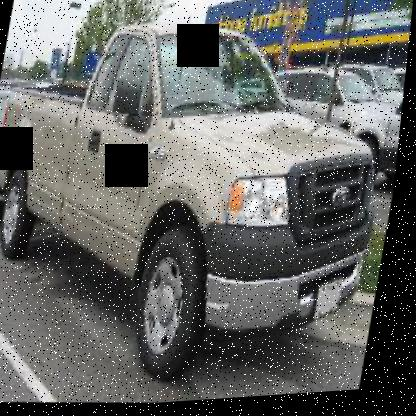not_emergency: (0, 0, 401, 382)
